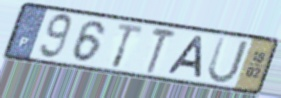6: (72, 19, 109, 63)
9: (36, 12, 74, 61)
A: (165, 33, 207, 80)
T: (110, 22, 146, 70), (145, 26, 179, 76)
U: (204, 35, 251, 85)
